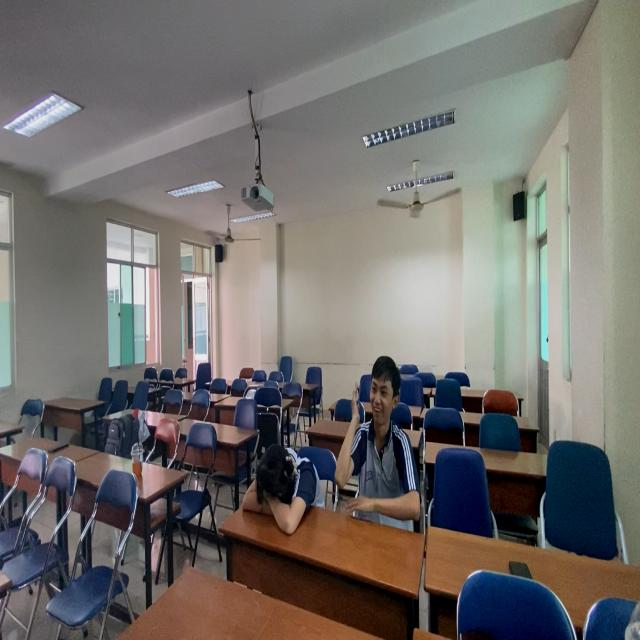raise_hand: (339, 346, 426, 524)
sleep: (231, 435, 327, 531)
